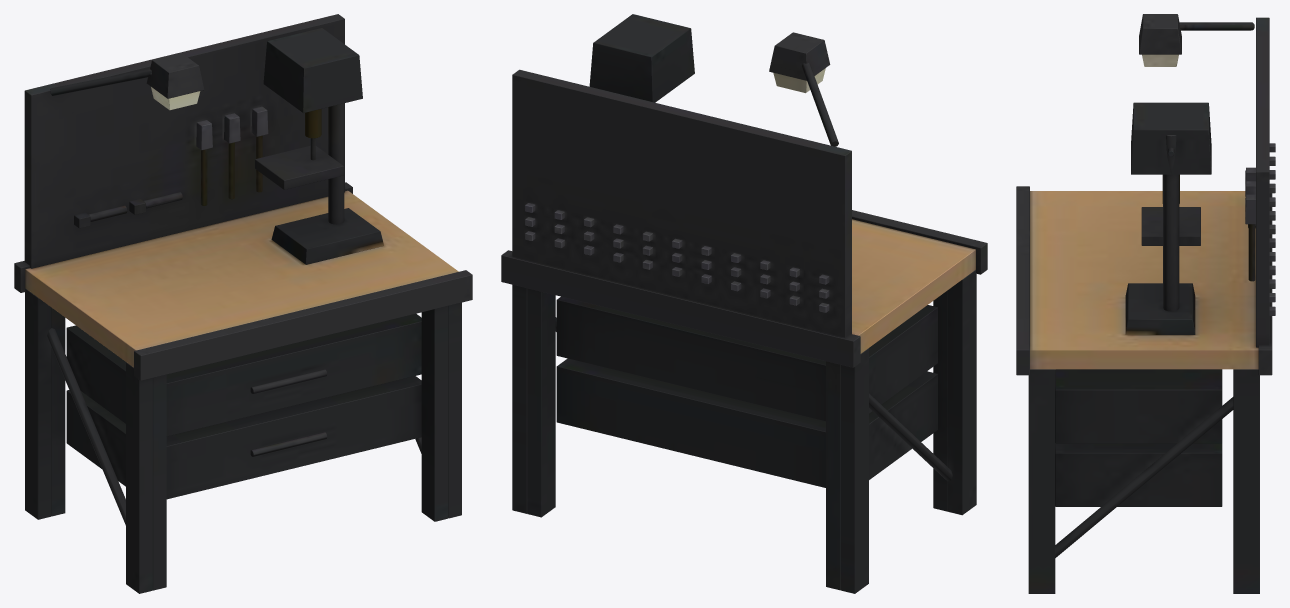
File: DD_workbench2.glb
3 views of the same model, side by side, from view 1: azimuth 30°, elevation 25°; view 2: azimuth 150°, elevation 25°; view 3: azimuth 270°, elevation 25° (orthographic). The views are drawn at different scales.
Parts seen in each view (by area): view 1: DD_workbench2; view 2: DD_workbench2; view 3: DD_workbench2.
Boxes of the visible parts, x1,y1,x2,y2 form: DD_workbench2: (14,14,472,593); DD_workbench2: (501,14,987,593); DD_workbench2: (1016,14,1275,593).
Size of the model in its own units: 1.44 by 1.9 by 0.9625.
1 material, 1 textured.
